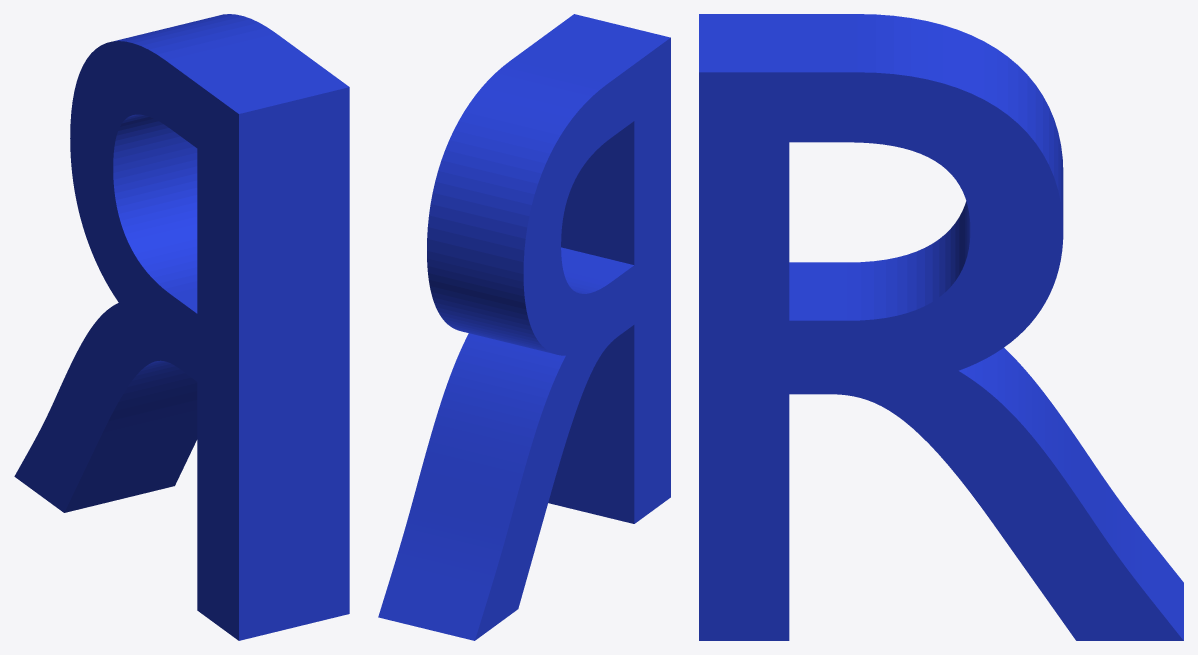
The model's file is Rsoftware.glb.
3 views of the same model, side by side, from view 1: azimuth 30°, elevation 25°; view 2: azimuth 150°, elevation 25°; view 3: azimuth 270°, elevation 25° (orthographic). The views are drawn at different scales.
Visible parts, largest first — view 1: Text; view 2: Text; view 3: Text.
Boxes of the visible parts, x1,y1,x2,y2 form: Text: (14,14,349,640); Text: (378,14,670,640); Text: (699,14,1183,640).
Size of the model in its own units: 0.15 by 0.682 by 0.527.
